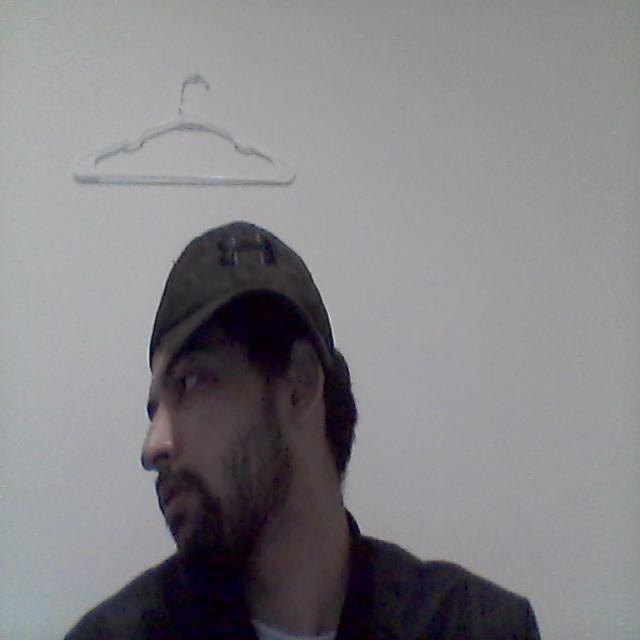cap: (128, 211, 372, 413)
